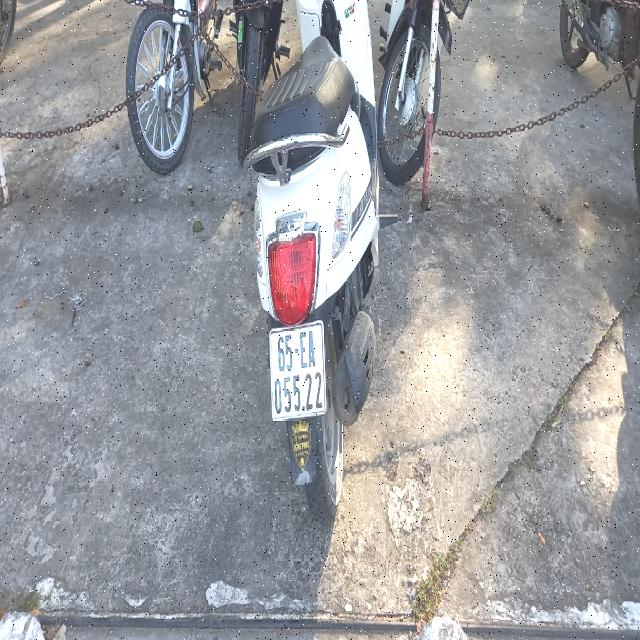0: (274, 378, 283, 414)
2: (305, 373, 313, 409), (315, 372, 322, 409)
5: (284, 335, 293, 370), (284, 376, 291, 413), (294, 376, 300, 412)
6: (278, 335, 285, 372)
A: (309, 330, 315, 369)
E: (300, 331, 307, 368)
